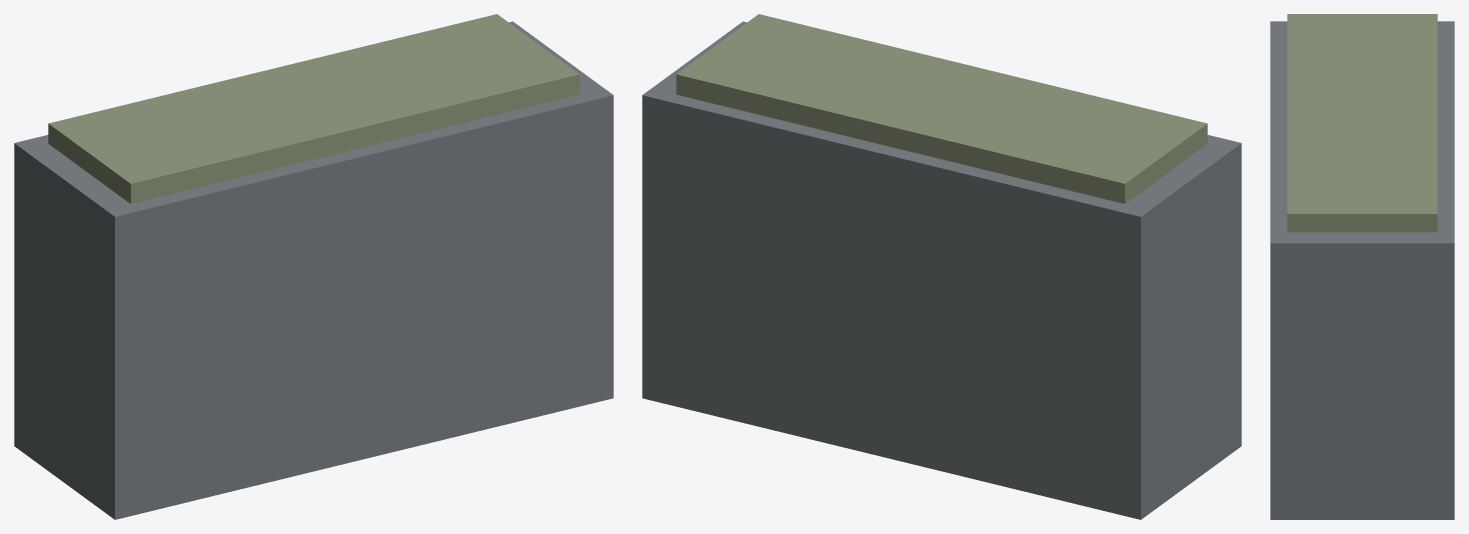
Rendered from iz2_district_rooftop_satellite.glb.
The picture shows the model from 3 angles, left to right: view 1: azimuth 30°, elevation 25°; view 2: azimuth 150°, elevation 25°; view 3: azimuth 270°, elevation 25°; orthographic projection. The views are drawn at different scales.
Parts seen in each view (by area): view 1: body; view 2: body; view 3: body.
Boxes of the visible parts, <box> form: body: <box>14,14,613,519</box>; body: <box>642,14,1241,519</box>; body: <box>1270,14,1454,519</box>.
Size of the model in its own units: 1.53 by 0.9504 by 0.5376.
